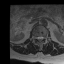CCS_normal: (38, 34, 41, 43)
LFS_normal: (43, 34, 45, 41)
LLS_normal: (41, 34, 43, 42)
RFS_normal: (34, 34, 36, 41)
RLS_normal: (36, 34, 38, 41)
